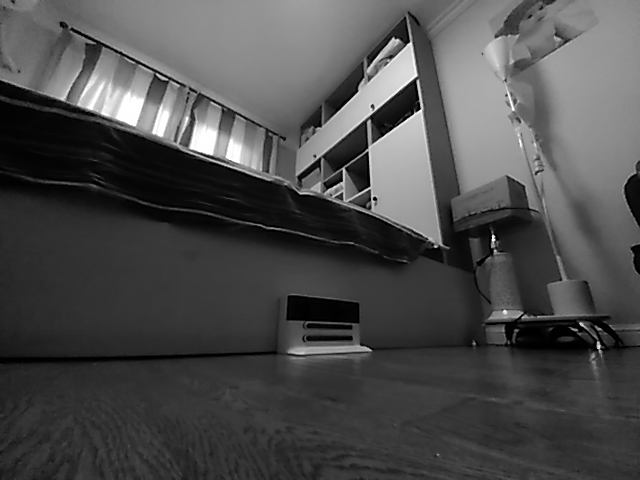Ruby: (274, 291, 371, 358)
